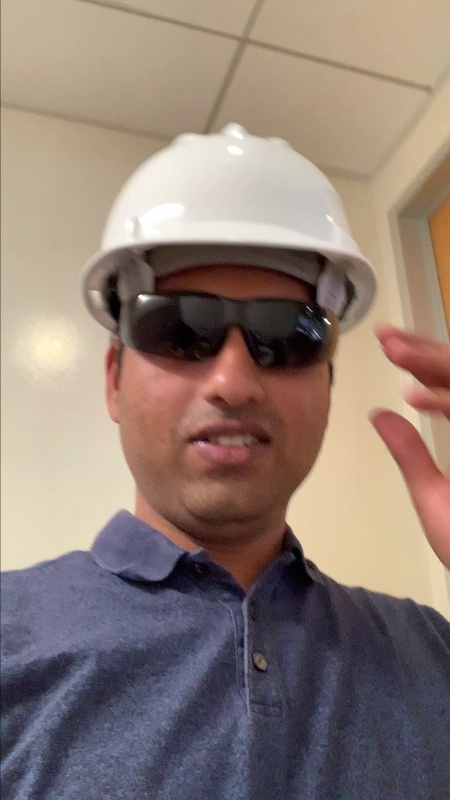glasses: (111, 287, 355, 372)
helmet: (78, 120, 376, 312)
